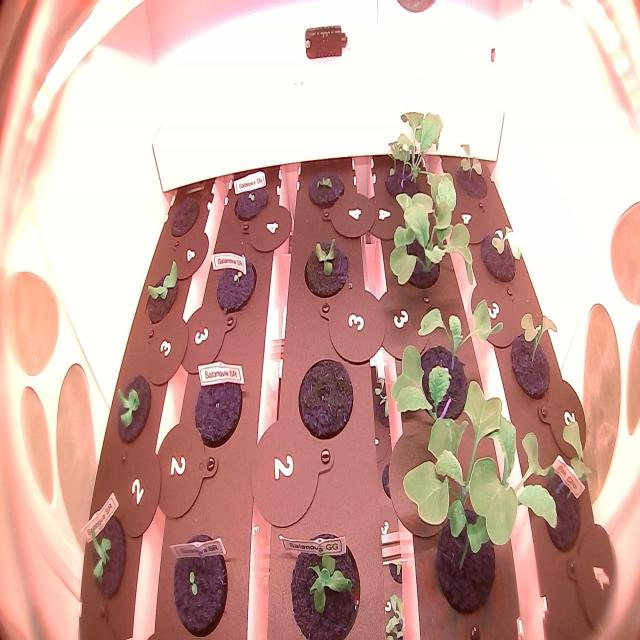germination: (167, 529, 231, 636), (227, 164, 275, 236), (212, 250, 260, 320), (302, 158, 349, 224)
pod: (295, 352, 357, 451), (187, 358, 248, 456), (165, 183, 205, 243)
young: (280, 516, 373, 640), (79, 504, 132, 606), (299, 229, 355, 307), (108, 367, 157, 453), (140, 252, 184, 333)
